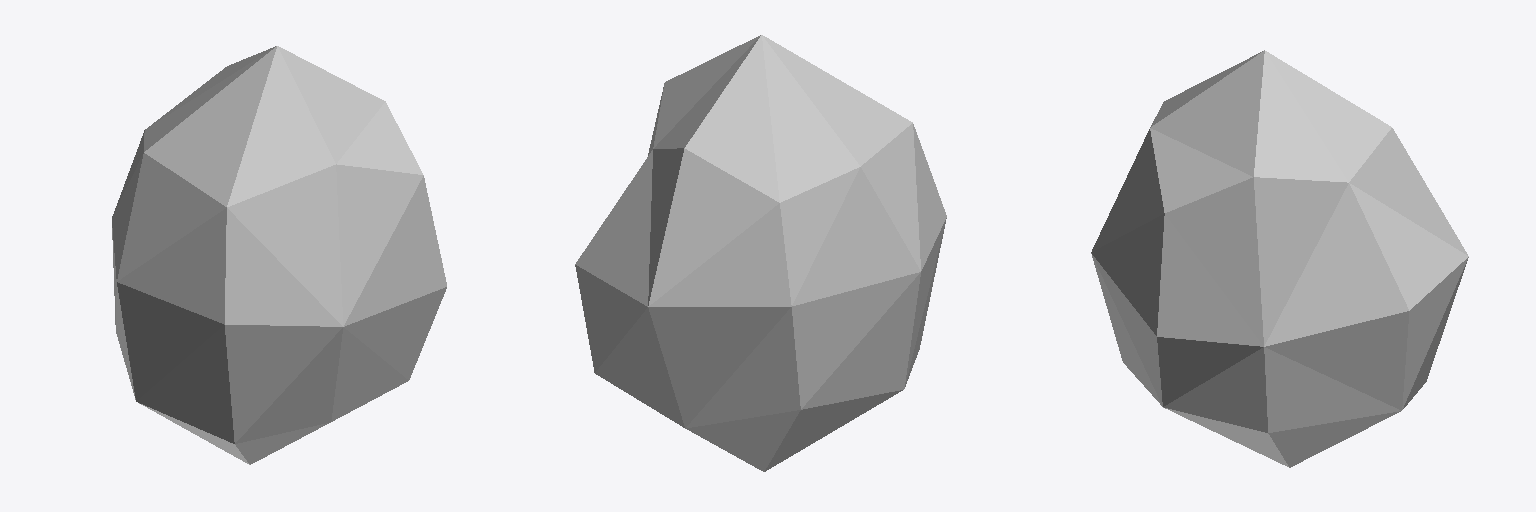
The model's file is stone.obj.
3 views of the same model, side by side, from view 1: azimuth 30°, elevation 25°; view 2: azimuth 150°, elevation 25°; view 3: azimuth 270°, elevation 25° (orthographic).
Visible parts, largest first — view 1: Cube_Cube.001; view 2: Cube_Cube.001; view 3: Cube_Cube.001.
Part boxes in pixels (bbox=[...]): Cube_Cube.001: bbox=[112, 46, 446, 464]; Cube_Cube.001: bbox=[575, 35, 946, 471]; Cube_Cube.001: bbox=[1091, 50, 1468, 467].
Bounding box in the file's own units: 0.6644 × 0.9227 × 0.7437.